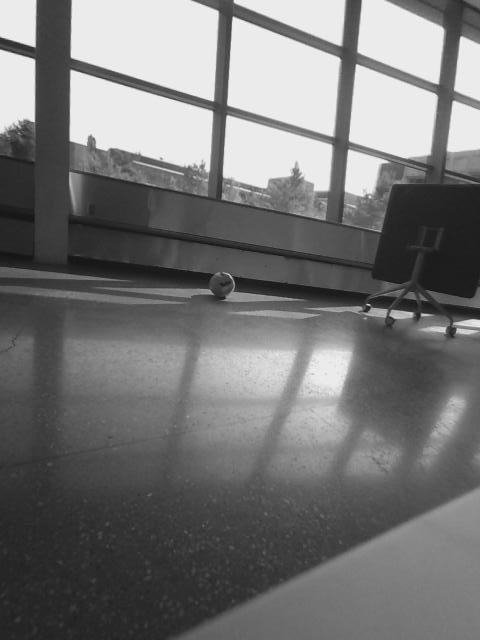ball: (205, 270, 238, 300)
